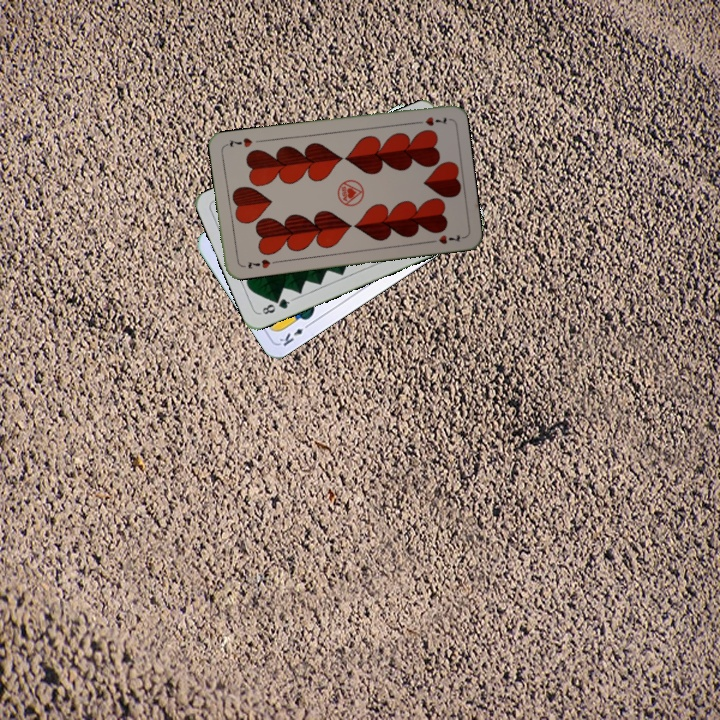EK: (275, 319, 313, 349)
G8: (256, 294, 295, 317)
H7: (410, 113, 450, 129), (244, 255, 273, 271)
